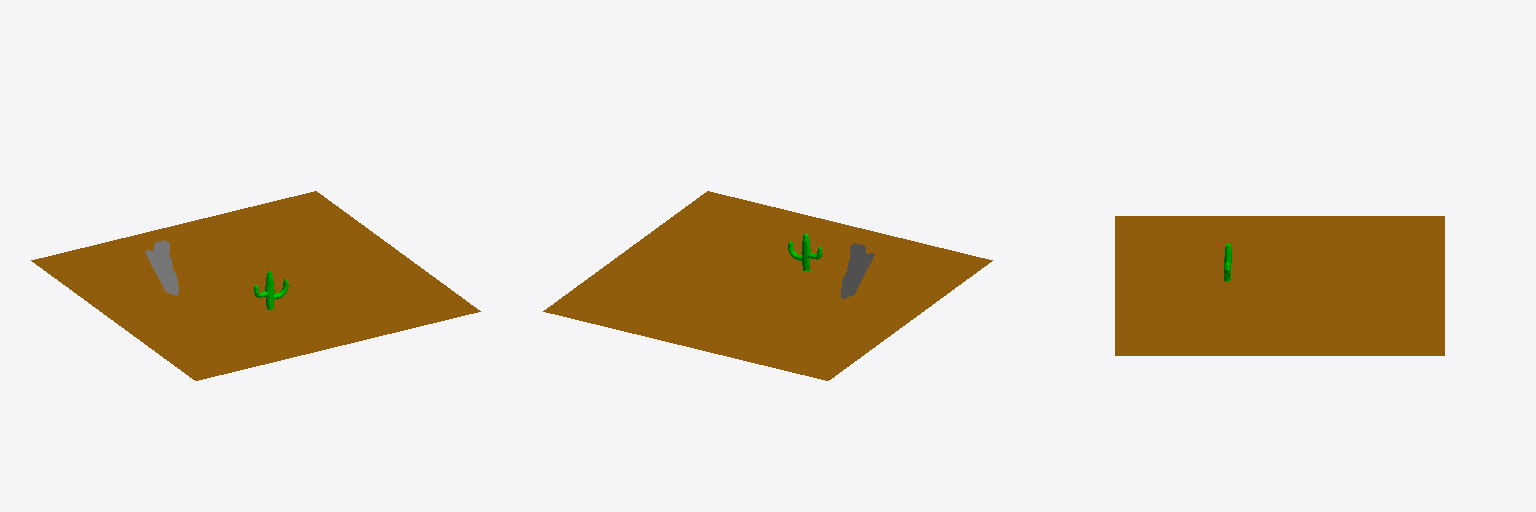
File: luxor_lss.obj
3 views of the same model, side by side, from view 1: azimuth 30°, elevation 25°; view 2: azimuth 150°, elevation 25°; view 3: azimuth 270°, elevation 25° (orthographic).
Parts seen in each view (by area): view 1: Ground_Plane, Arm_Plane.019; view 2: Ground_Plane, Arm_Plane.019; view 3: Ground_Plane.
Part boxes in pixels (left/top/right/bottom): Ground_Plane: left=31, top=191, right=480, bottom=380; Arm_Plane.019: left=145, top=240, right=178, bottom=295; Ground_Plane: left=543, top=191, right=992, bottom=380; Arm_Plane.019: left=840, top=243, right=874, bottom=298; Ground_Plane: left=1115, top=216, right=1444, bottom=355.
Bounding box in the file's own units: 30 × 7.44 × 30.